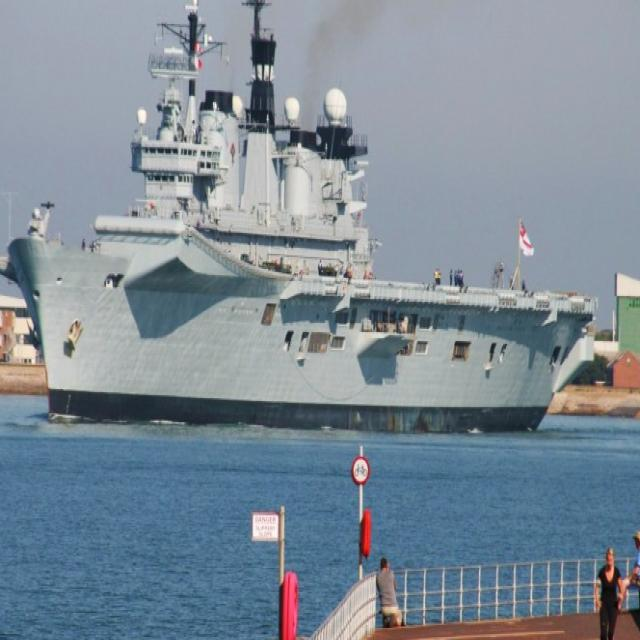Portanaves: (1, 1, 604, 429)
